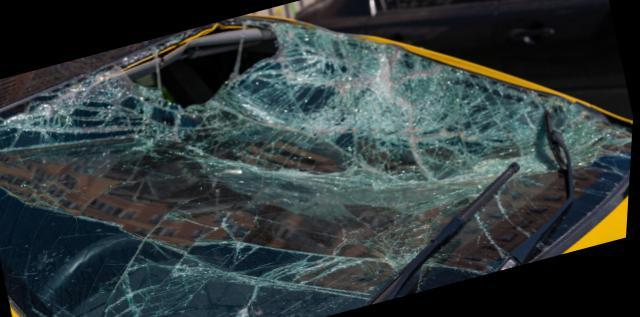glass shatter: (0, 16, 634, 317)
